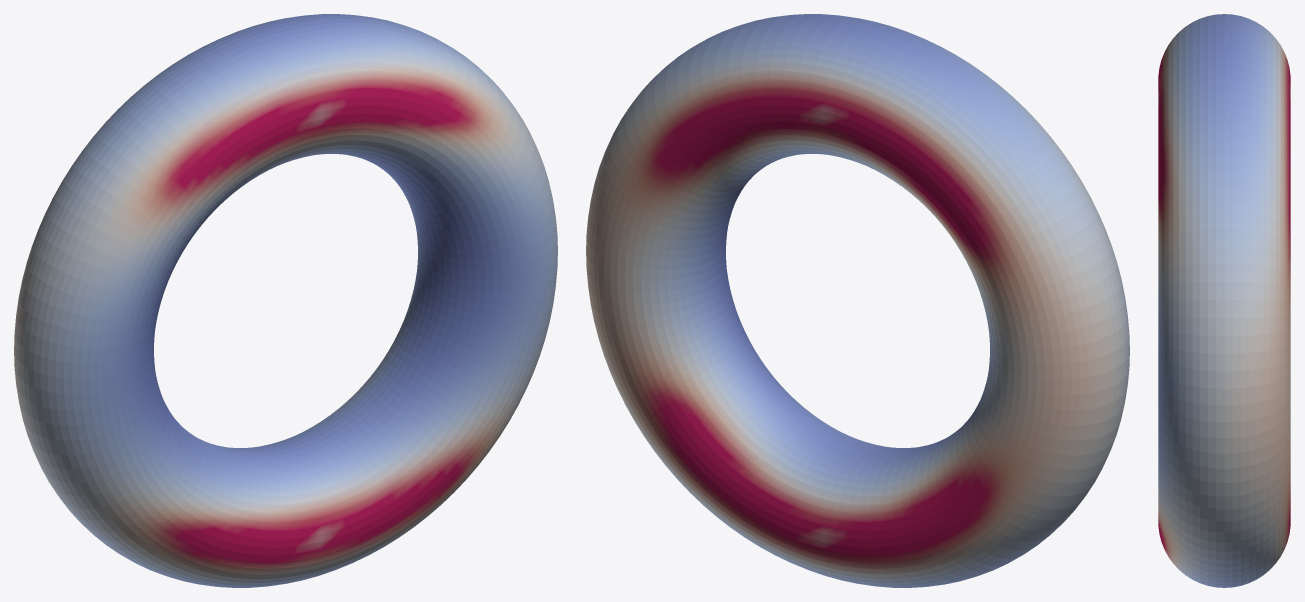
3 renders of one model, left to right at view 1: azimuth 30°, elevation 25°; view 2: azimuth 150°, elevation 25°; view 3: azimuth 270°, elevation 25°, orthographic. The views are drawn at different scales.
Visible parts, largest first — view 1: world; view 2: world; view 3: world.
Boxes of the visible parts, bbox=[...] form: world: bbox=[14, 14, 557, 587]; world: bbox=[586, 14, 1129, 587]; world: bbox=[1158, 14, 1290, 587].
Bounding box in the file's own units: 22.53 × 22.53 × 5.19.
